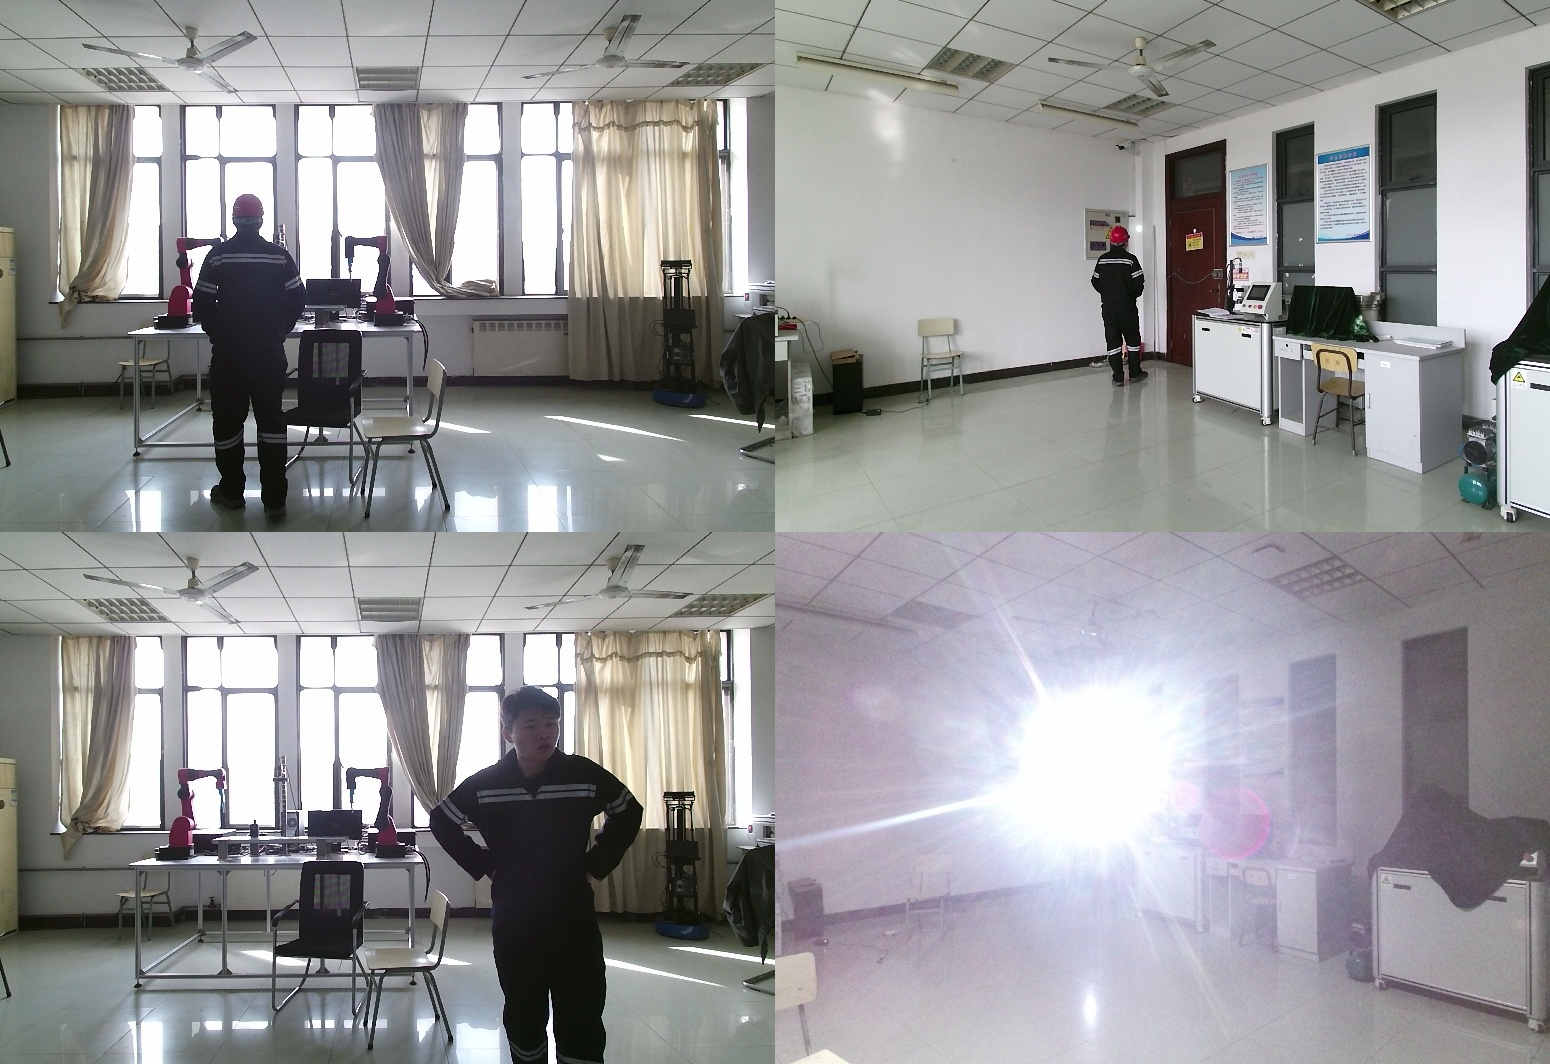person: (437, 684, 674, 1064), (190, 194, 310, 523), (1089, 227, 1149, 393), (1065, 768, 1108, 894)
